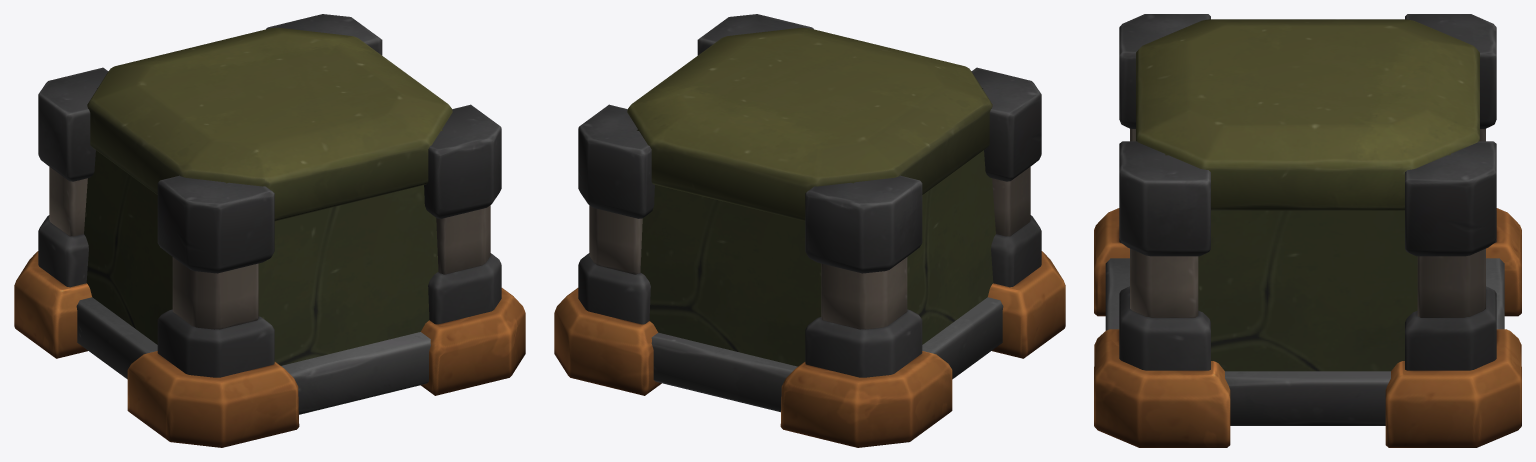
The model's file is SM_TowerDefense_Assault_Lv1.fbx.
3 views of the same model, side by side, from view 1: azimuth 30°, elevation 25°; view 2: azimuth 150°, elevation 25°; view 3: azimuth 270°, elevation 25° (orthographic). The views are drawn at different scales.
Visible parts, largest first — view 1: SM_TowerDefense_Assault_Lv1; view 2: SM_TowerDefense_Assault_Lv1; view 3: SM_TowerDefense_Assault_Lv1.
Part boxes in pixels (x1,y1,x2,y2): SM_TowerDefense_Assault_Lv1: [14, 14, 525, 447]; SM_TowerDefense_Assault_Lv1: [554, 14, 1065, 447]; SM_TowerDefense_Assault_Lv1: [1094, 14, 1521, 447].
Size of the model in its own units: 1010 by 682 by 951.
